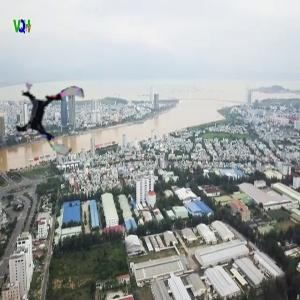drone: (14, 80, 87, 153)
